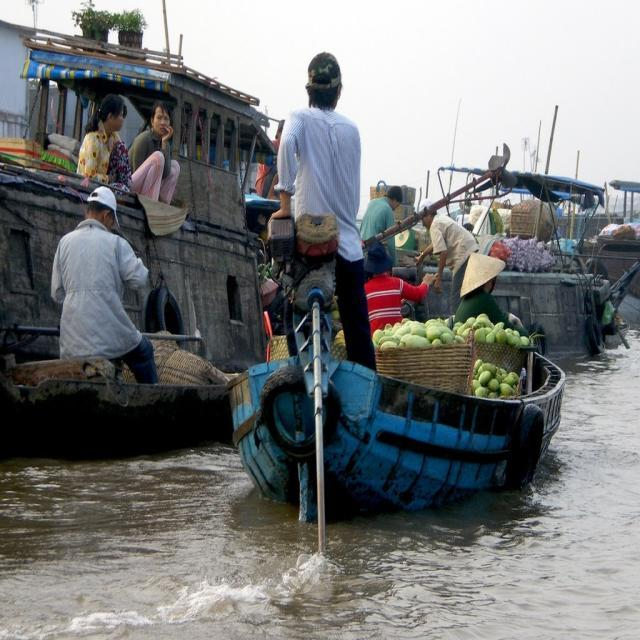boat: (251, 286, 567, 508)
